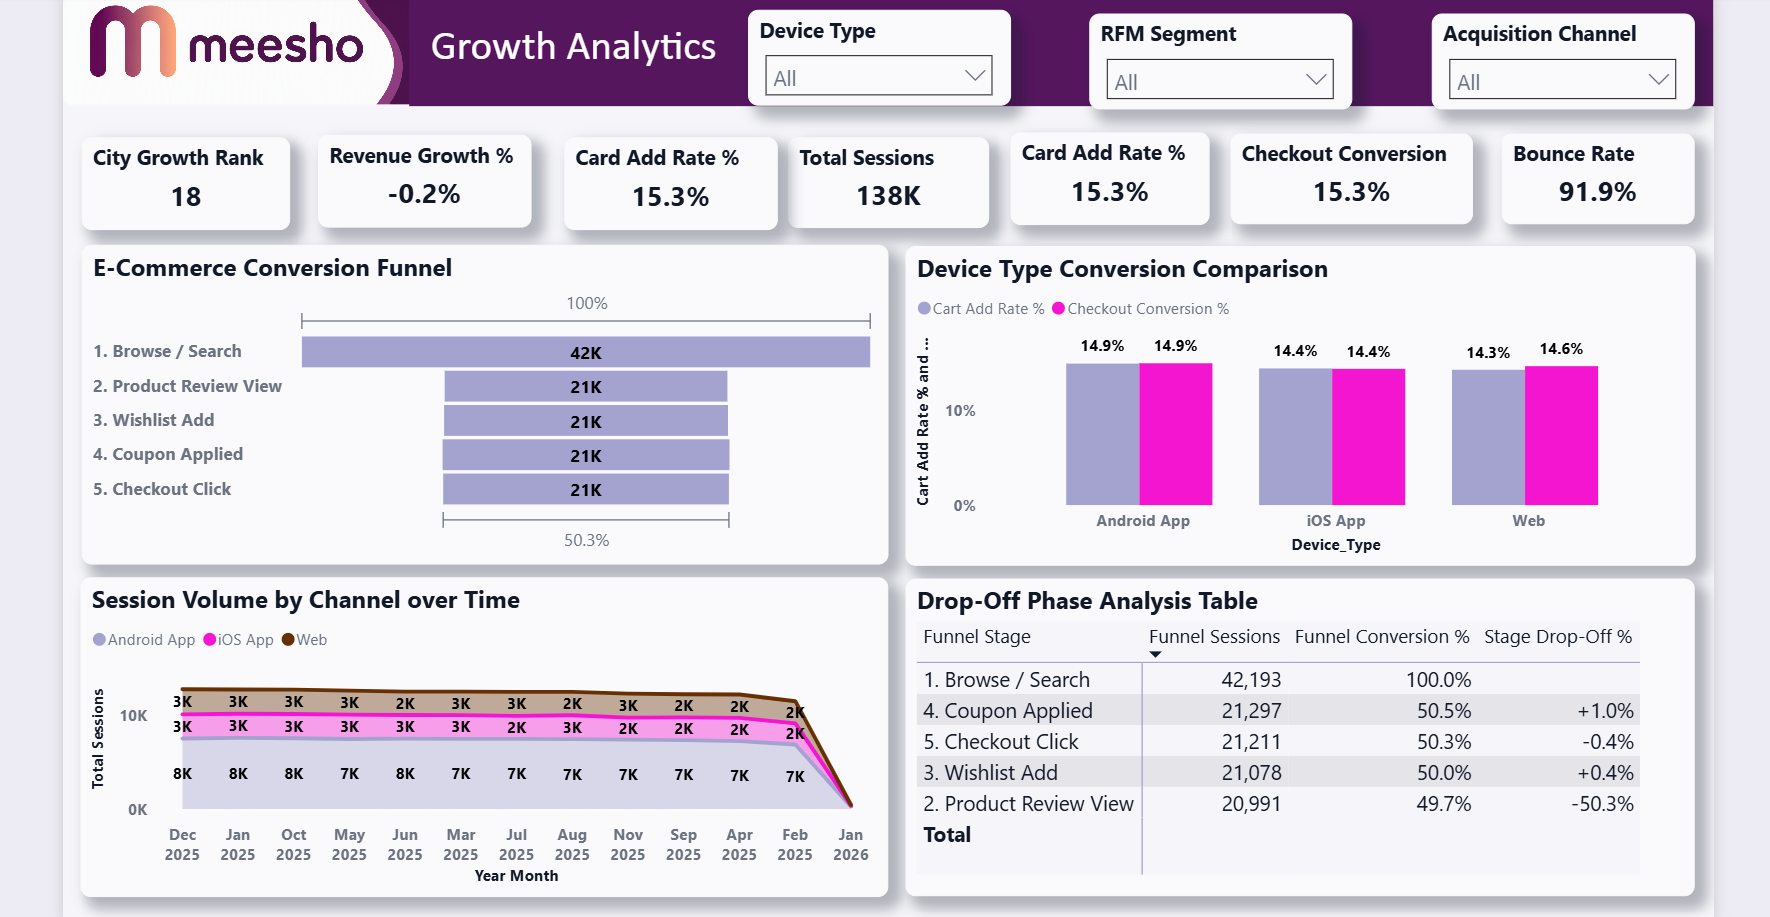

This screenshot's page, from the dashboard's own definition file:
{"tool":"powerbi","page":{"name":"Growth Analytics","canvas":[1280,720],"ordinal":4},"visuals":[{"type":"image","box":[0,0,280.5,85.4],"z":0},{"type":"shape","box":[268.7,0,1011.3,85.4],"z":1000},{"type":"textbox","box":[280.5,13.7,249.9,54.8],"z":2000},{"type":"slicer","title":"Device Type","fields":{"Values":["meesho_feature_events.Device_Type"]},"box":[530.9,10.8,203.7,74.3],"z":3000},{"type":"slicer","title":"RFM Segment","fields":{"Values":["meesho_customers.RFM Segment"]},"box":[795.8,13.2,203.7,74.3],"z":4000},{"type":"slicer","title":"Acquisition Channel ","fields":{"Values":["meesho_customers.Acquisition_Channel"]},"box":[1061.9,13.2,203.7,74.3],"z":5000},{"type":"card","title":"Total Sessions","fields":{"Values":["Metrics.Total Sessions"]},"box":[562.1,109.1,155.8,70.7],"z":6000},{"type":"card","title":"Card Add Rate % ","fields":{"Values":["Metrics.Cart Add Rate %"]},"box":[734.7,105.5,154.6,71.9],"z":7000},{"type":"card","title":"Checkout Conversion ","fields":{"Values":["Metrics.Checkout Conversion %"]},"box":[904.9,106.7,188.2,70.7],"z":8000},{"type":"card","title":"Bounce Rate ","fields":{"Values":["Metrics.Bounce Rate %"]},"box":[1115.8,106.7,149.8,70.7],"z":9000},{"type":"card","title":"Card Add Rate % ","fields":{"Values":["Metrics.Cart Add Rate %"]},"box":[388.3,109.1,165.4,71.9],"z":10000},{"type":"card","title":"City Growth Rank","fields":{"Values":["Metrics.City Growth Rank"]},"box":[14.4,109.1,161.8,71.9],"z":11000},{"type":"card","title":"Revenue Growth %","fields":{"Values":["Metrics.Revenue Growth %"]},"box":[197.8,107.9,165.4,71.9],"z":12000},{"type":"funnel","title":"E-Commerce Conversion Funnel","fields":{"Category":["Funnel Stage.Funnel Stage"],"Y":["Metrics.Funnel Sessions"]},"box":[14.4,193,625.6,248.1],"z":13000},{"type":"clusteredColumnChart","title":"Device Type Conversion Comparison","fields":{"Category":["meesho_feature_events.Device_Type"],"Y":["Metrics.Cart Add Rate %","Metrics.Checkout Conversion %"]},"box":[653.2,194.2,612.4,248.1],"z":14000},{"type":"stackedAreaChart","title":"Session Volume by Channel over Time","fields":{"Category":["Date.Year Month"],"Series":["meesho_feature_events.Device_Type"],"Y":["Metrics.Total Sessions"]},"box":[14,451,626,248],"z":15000},{"type":"pivotTable","title":"Drop-Off Phase Analysis Table","fields":{"Rows":["Funnel Stage.Funnel Stage"],"Values":["Metrics.Funnel Sessions","Metrics.Funnel Conversion %","Metrics.Stage Drop-Off %"]},"box":[653.6,451.6,611.7,246.7],"z":16000}]}

Visuals, with their boxes on the page's 1280x720 design canvas (x1, y1, x2, y2). These are canvas units, not pixel positions in the 1770x917 screenshot, which may show the page scaled, cropped or inside an application window:
image: bbox=(0, 0, 280, 85)
shape: bbox=(269, 0, 1280, 85)
textbox: bbox=(280, 14, 530, 68)
"Device Type" slicer: bbox=(531, 11, 735, 85)
"RFM Segment" slicer: bbox=(796, 13, 1000, 88)
"Acquisition Channel " slicer: bbox=(1062, 13, 1266, 88)
"Total Sessions" card: bbox=(562, 109, 718, 180)
"Card Add Rate % " card: bbox=(735, 106, 889, 177)
"Checkout Conversion " card: bbox=(905, 107, 1093, 177)
"Bounce Rate " card: bbox=(1116, 107, 1266, 177)
"Card Add Rate % " card: bbox=(388, 109, 554, 181)
"City Growth Rank" card: bbox=(14, 109, 176, 181)
"Revenue Growth %" card: bbox=(198, 108, 363, 180)
"E-Commerce Conversion Funnel" funnel: bbox=(14, 193, 640, 441)
"Device Type Conversion Comparison" clusteredColumnChart: bbox=(653, 194, 1266, 442)
"Session Volume by Channel over Time" stackedAreaChart: bbox=(14, 451, 640, 699)
"Drop-Off Phase Analysis Table" pivotTable: bbox=(654, 452, 1265, 698)
